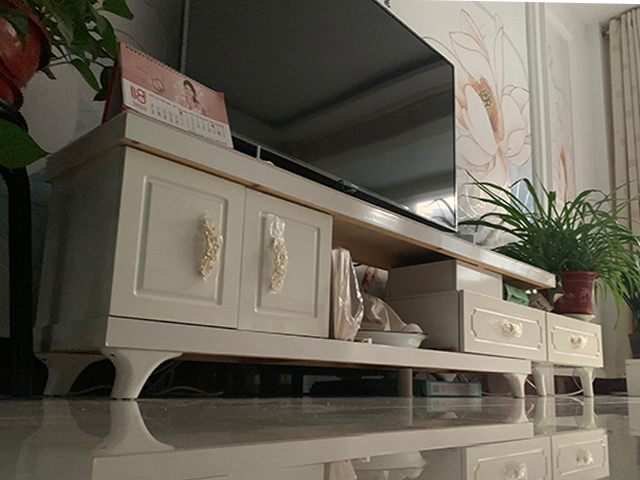cabinet: (31, 108, 605, 400)
